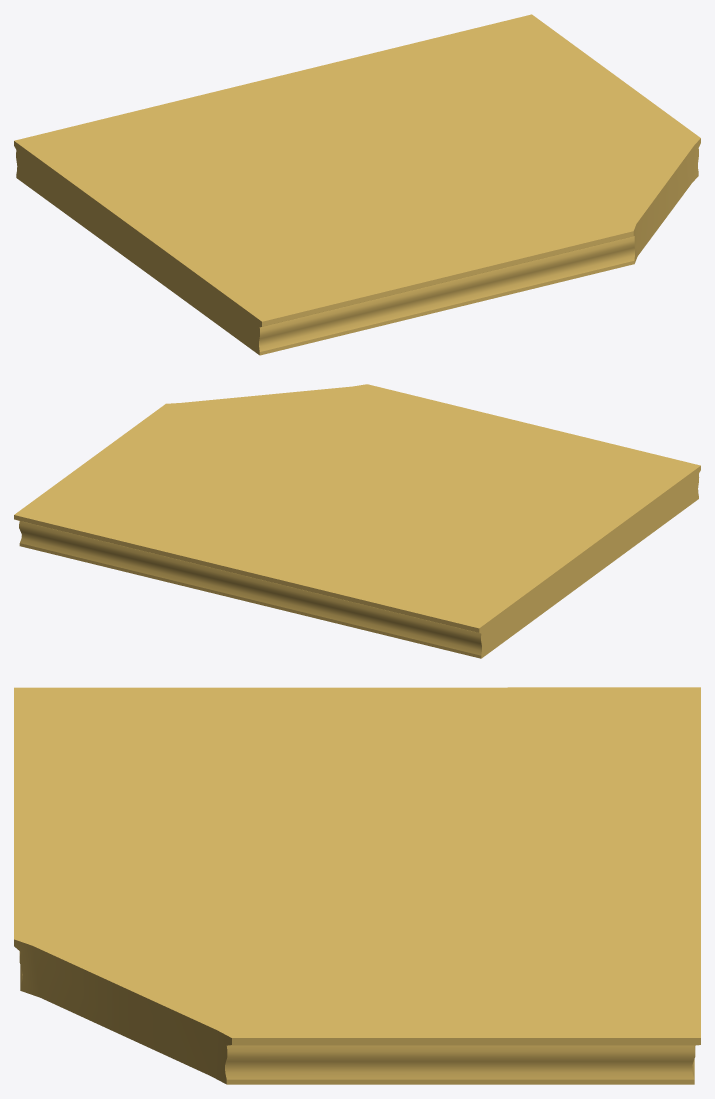
File: SP_House08_Base02.fbx
3 views of the same model, one above another, from view 1: azimuth 30°, elevation 25°; view 2: azimuth 150°, elevation 25°; view 3: azimuth 270°, elevation 25° (orthographic). The views are drawn at different scales.
Visible parts, largest first — view 1: SP_House08_Base02; view 2: SP_House08_Base02; view 3: SP_House08_Base02.
Boxes of the visible parts, x1,y1,x2,y2 form: SP_House08_Base02: (14,14,700,355); SP_House08_Base02: (14,384,700,658); SP_House08_Base02: (14,687,700,1084).
Bounding box in the file's own units: 9.07 × 0.5942 × 7.51.
